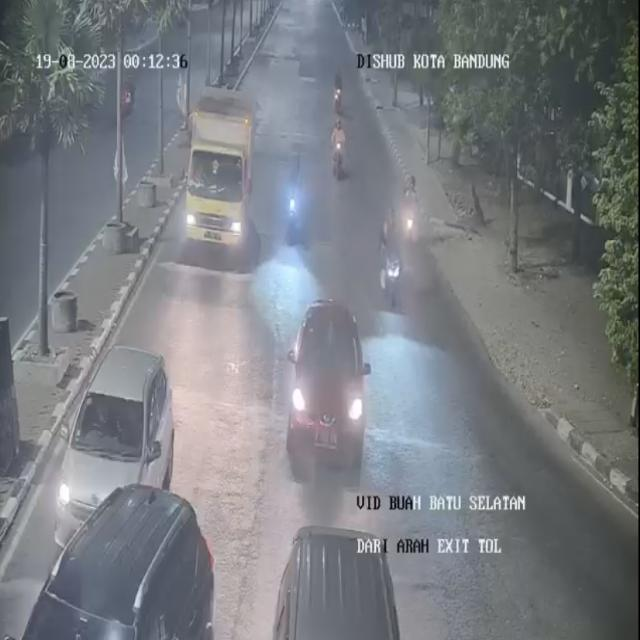cars: (4, 486, 212, 640), (53, 343, 172, 540), (268, 515, 396, 637), (288, 291, 373, 463)
motorcycle: (375, 206, 405, 316), (394, 168, 420, 256), (328, 105, 353, 180), (330, 68, 351, 117)
truck: (185, 85, 258, 259)
